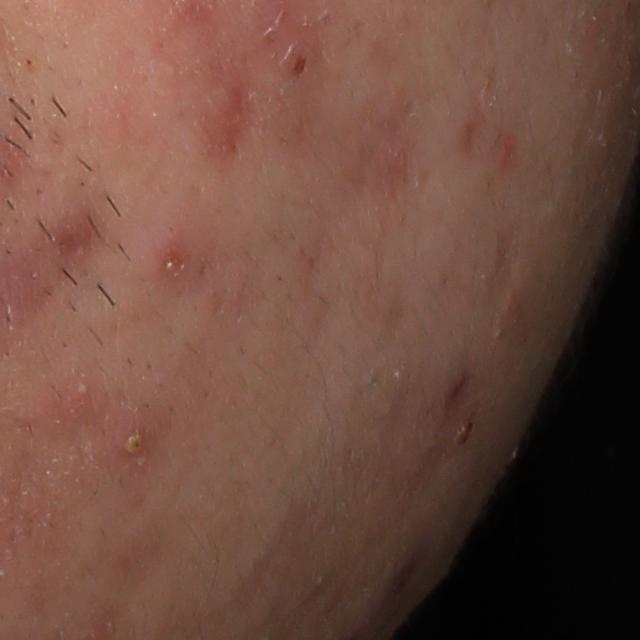papule: (158, 241, 190, 278)
pustule: (114, 418, 154, 462)
